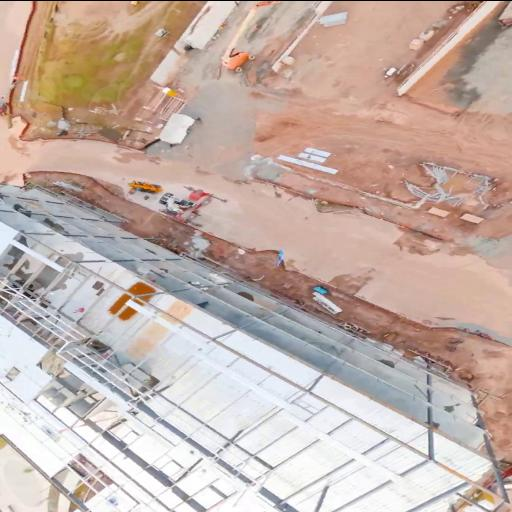uav: (274, 248, 286, 265)
